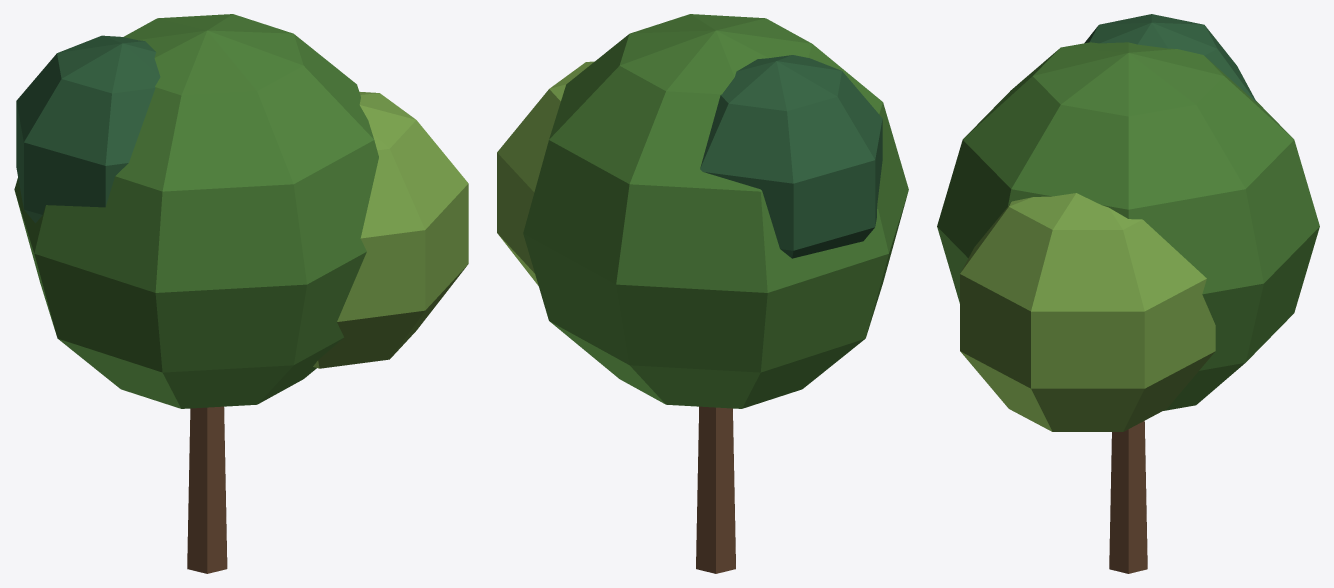
File: TreeRound.obj
The picture shows the model from 3 angles, left to right: view 1: azimuth 30°, elevation 25°; view 2: azimuth 150°, elevation 25°; view 3: azimuth 270°, elevation 25°; orthographic projection. The views are drawn at different scales.
Parts seen in each view (by area): view 1: TreeRound; view 2: TreeRound; view 3: TreeRound.
Boxes of the visible parts, x1,y1,x2,y2 form: TreeRound: (14,14,468,573); TreeRound: (497,14,908,573); TreeRound: (937,14,1319,573).
Bounding box in the file's own units: 3.66 × 4.87 × 3.3.
